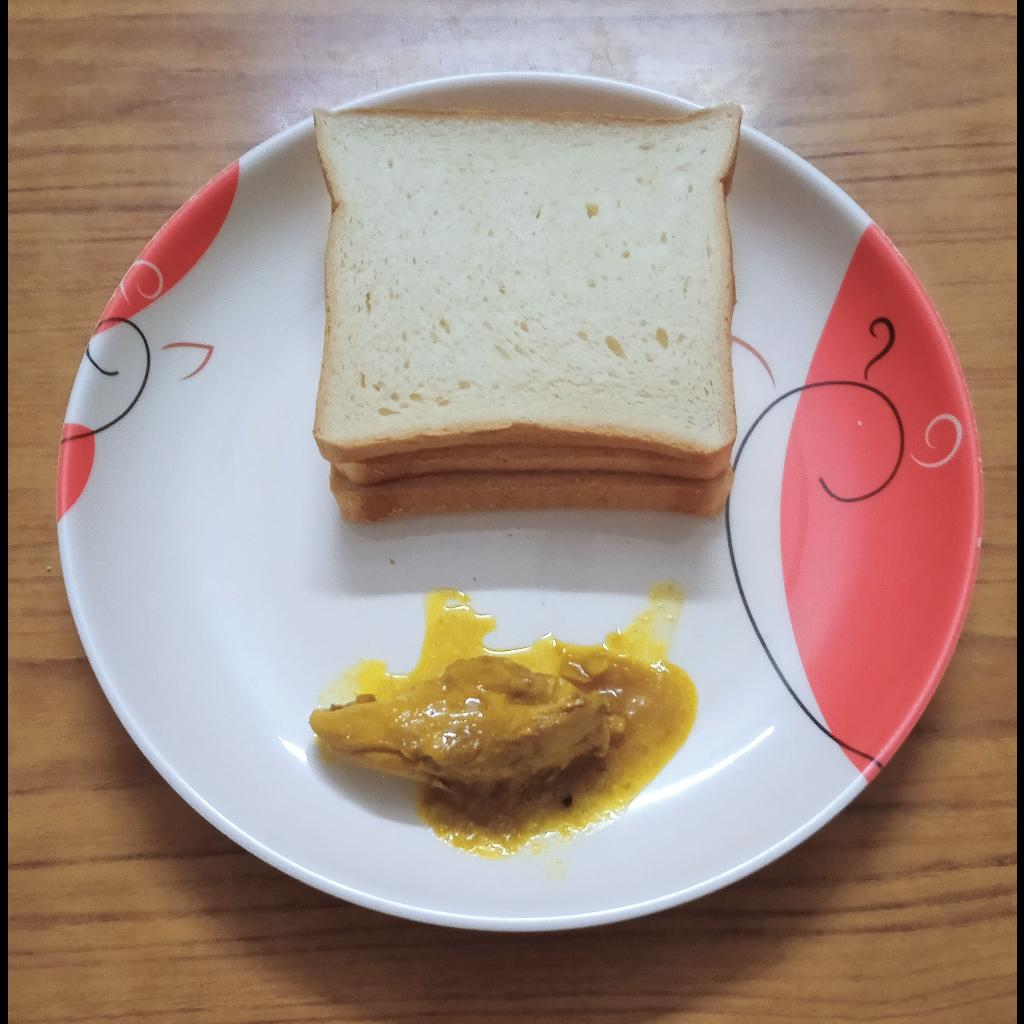bread: (306, 110, 737, 517)
chicken: (318, 663, 614, 784)
